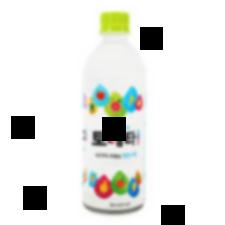toreta: (81, 10, 150, 214)
